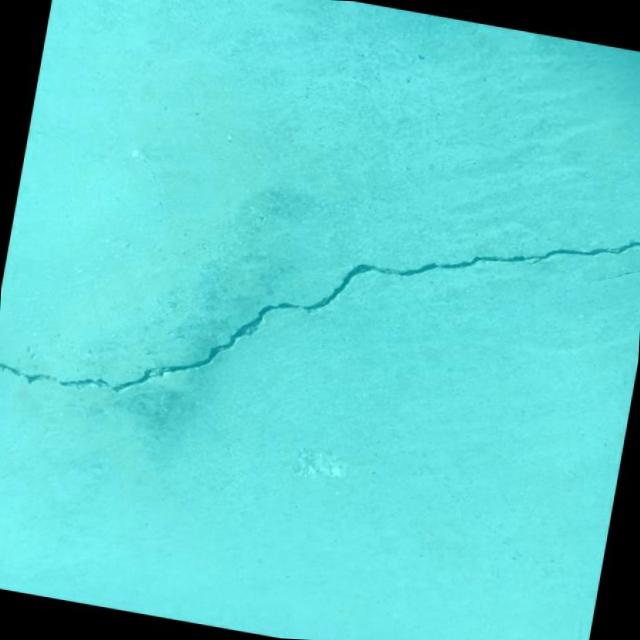crack: (0, 124, 640, 487), (614, 260, 640, 283)
